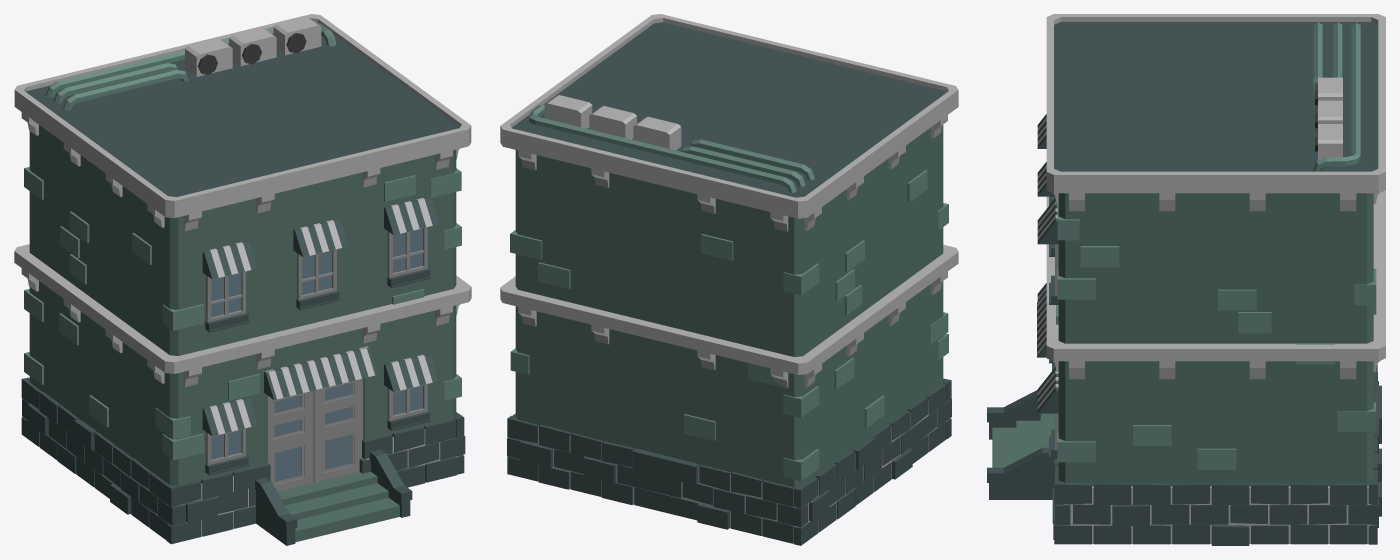
The model's file is 2Story_Double_Mat.glb.
3 views of the same model, side by side, from view 1: azimuth 30°, elevation 25°; view 2: azimuth 150°, elevation 25°; view 3: azimuth 270°, elevation 25° (orthographic). The views are drawn at different scales.
Parts seen in each view (by area): view 1: 2Story_Double_Mat; view 2: 2Story_Double_Mat; view 3: 2Story_Double_Mat.
Part boxes in pixels (bbox=[...]): 2Story_Double_Mat: bbox=[14, 14, 471, 545]; 2Story_Double_Mat: bbox=[500, 14, 958, 545]; 2Story_Double_Mat: bbox=[987, 14, 1385, 545].
Bounding box in the file's own units: 2.42 × 2.75 × 2.53.
